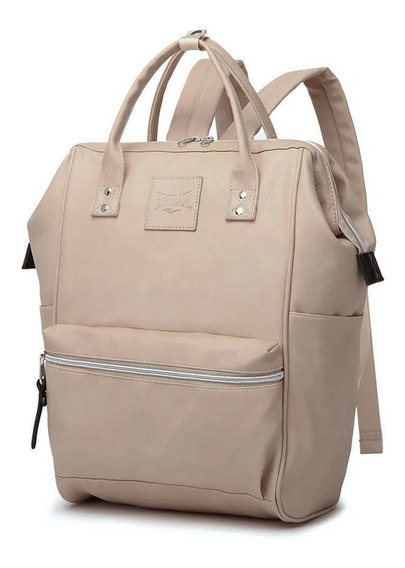cartera: (21, 26, 387, 528)
